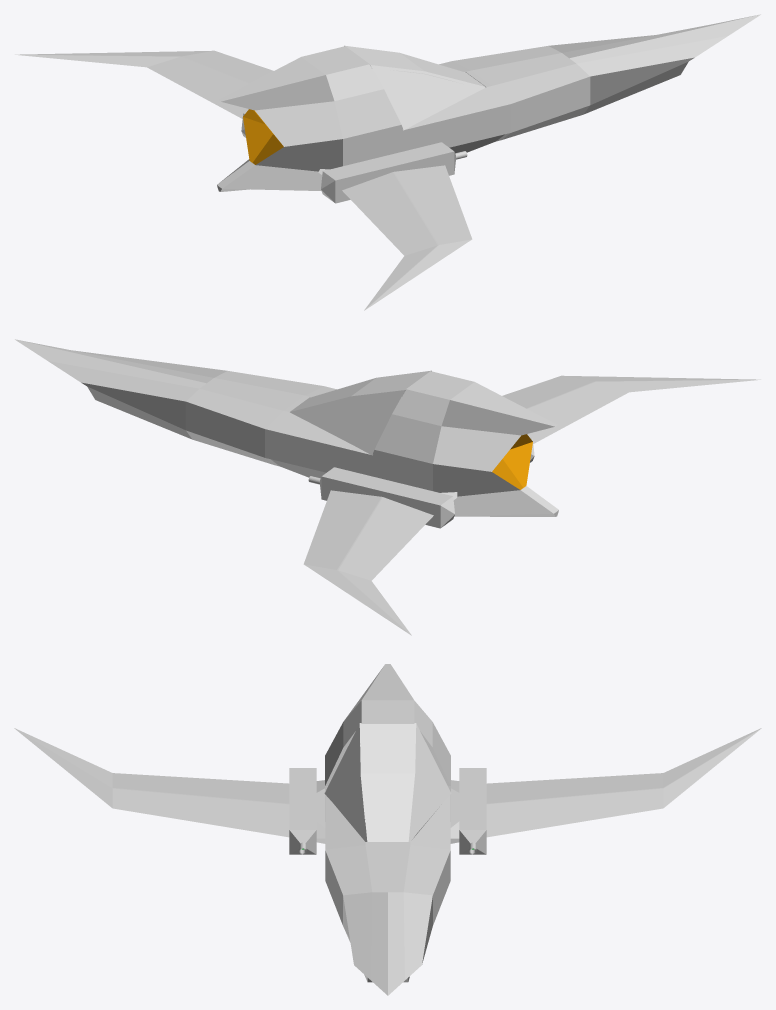
Rendered from Starfighter.fbx.
3 views of the same model, one above another, from view 1: azimuth 30°, elevation 25°; view 2: azimuth 150°, elevation 25°; view 3: azimuth 270°, elevation 25° (orthographic). The views are drawn at different scales.
Visible parts, largest first — view 1: Ship, CockpitGlass; view 2: Ship, CockpitGlass; view 3: Ship, CockpitGlass.
Boxes of the visible parts, left/top/right/bottom form: Ship: left=15, top=14, right=760, bottom=310; CockpitGlass: left=344, top=45, right=485, bottom=130; Ship: left=15, top=339, right=760, bottom=635; CockpitGlass: left=290, top=370, right=431, bottom=455; Ship: left=14, top=664, right=761, bottom=995; CockpitGlass: left=324, top=723, right=451, bottom=841.
Size of the model in its own units: 2081 by 400 by 2200.
